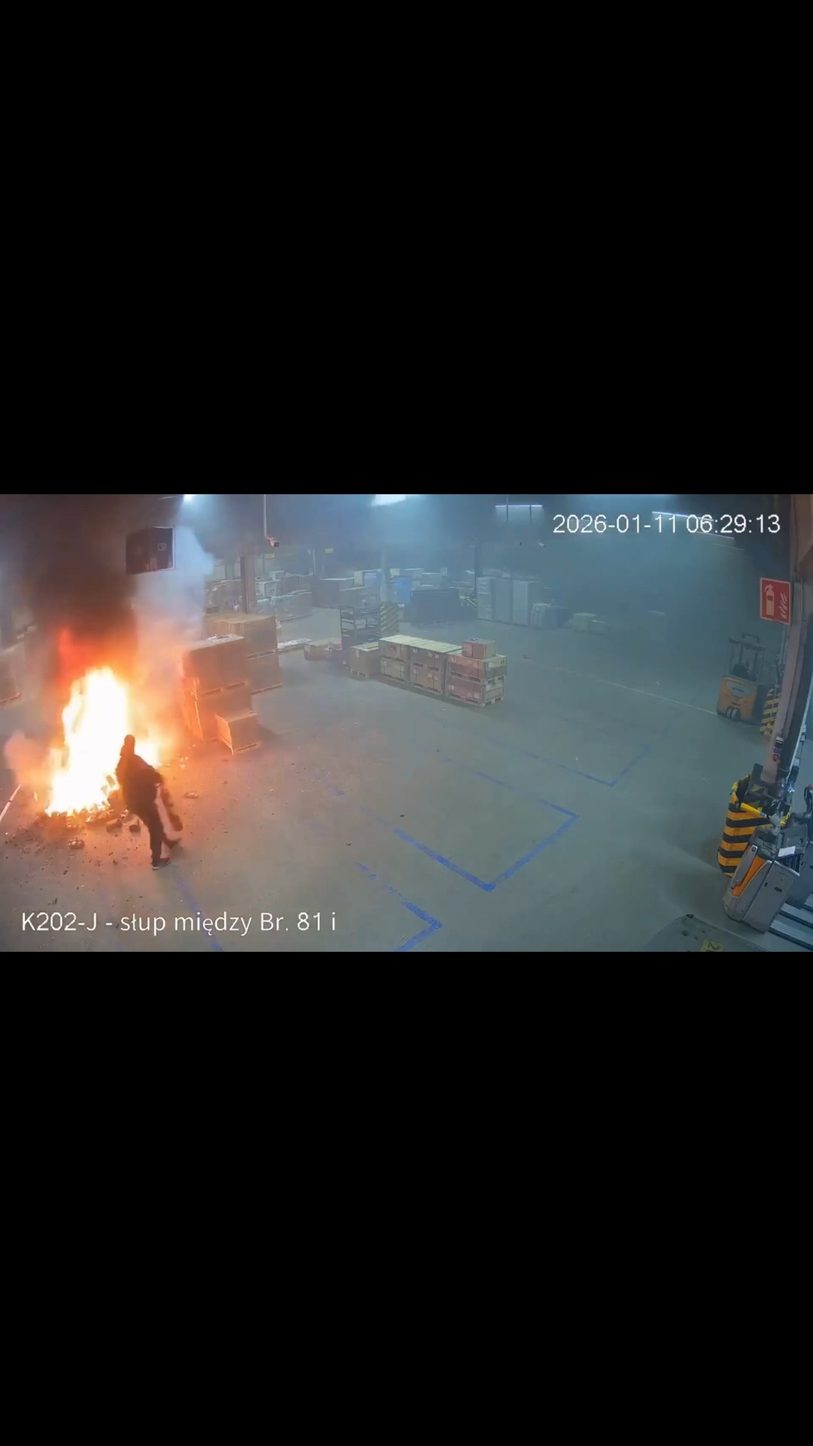fire: (36, 627, 175, 822)
smoke: (2, 498, 214, 725)
